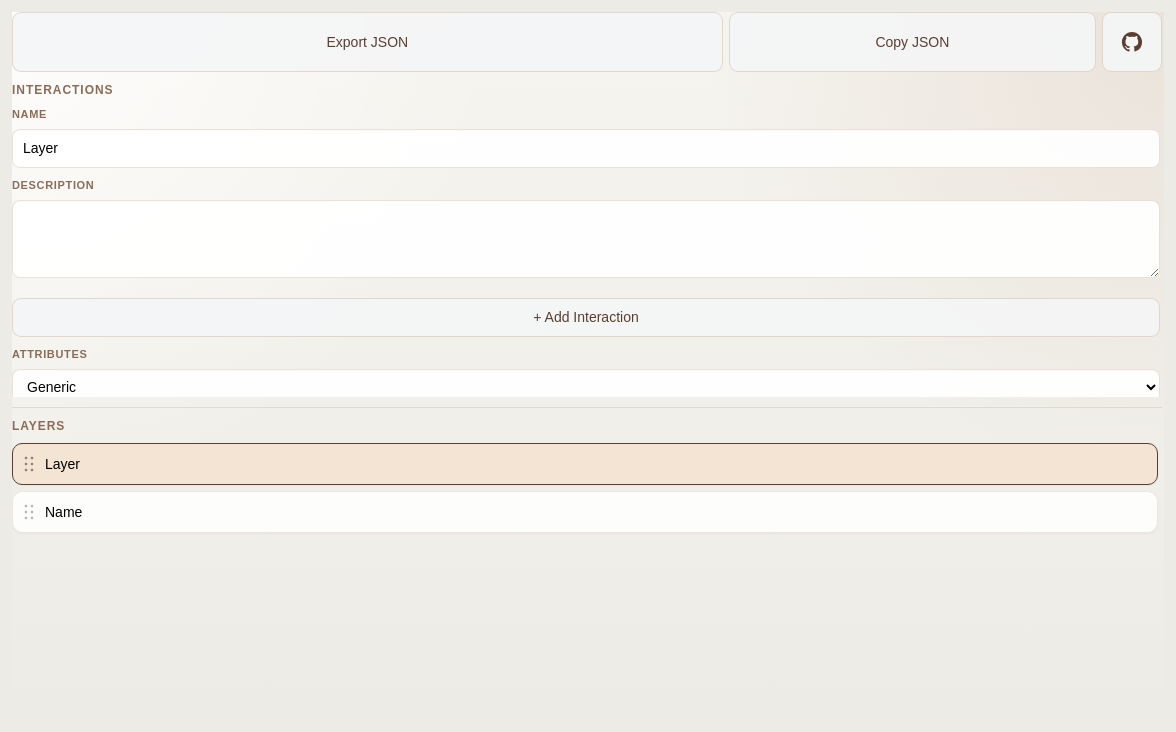
Test: BoardCanvas › keeps layer name typing as a draft until committing
The image size is (1176, 732).
Clear the field labelled "Name". click: (586, 148)
box: [12,129,1160,168]
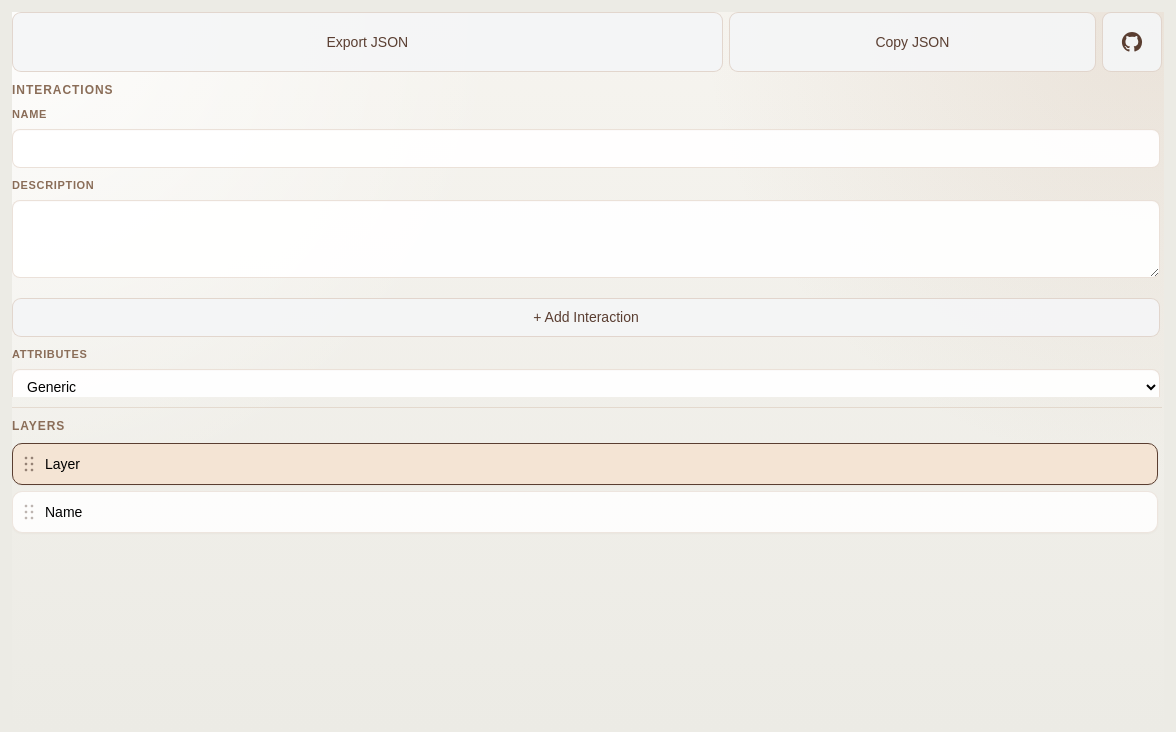
Check: the text "Layer" is shown, box [45,456,80,472]
Leave the field labelled "Name", box [12,129,1160,168]
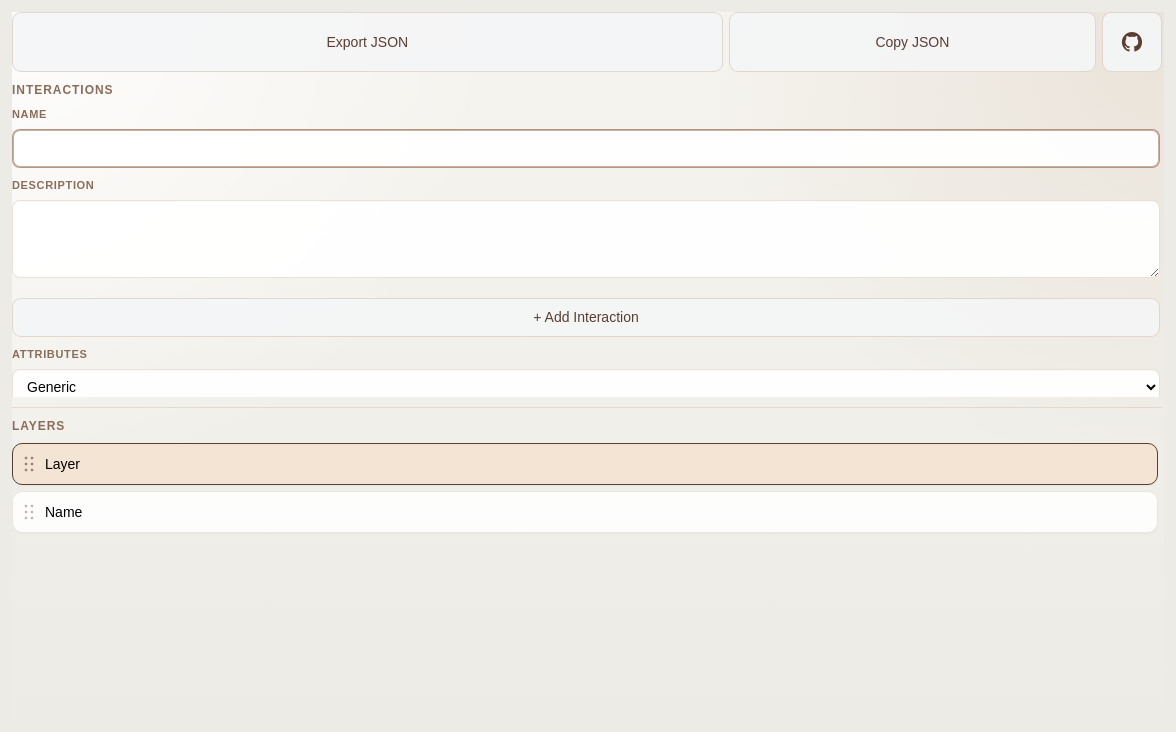
Check: the text "Layer" is shown, box [45,456,80,472]
Type "Name" into the field labelled "Name". click: (586, 148)
box: [12,129,1160,168]
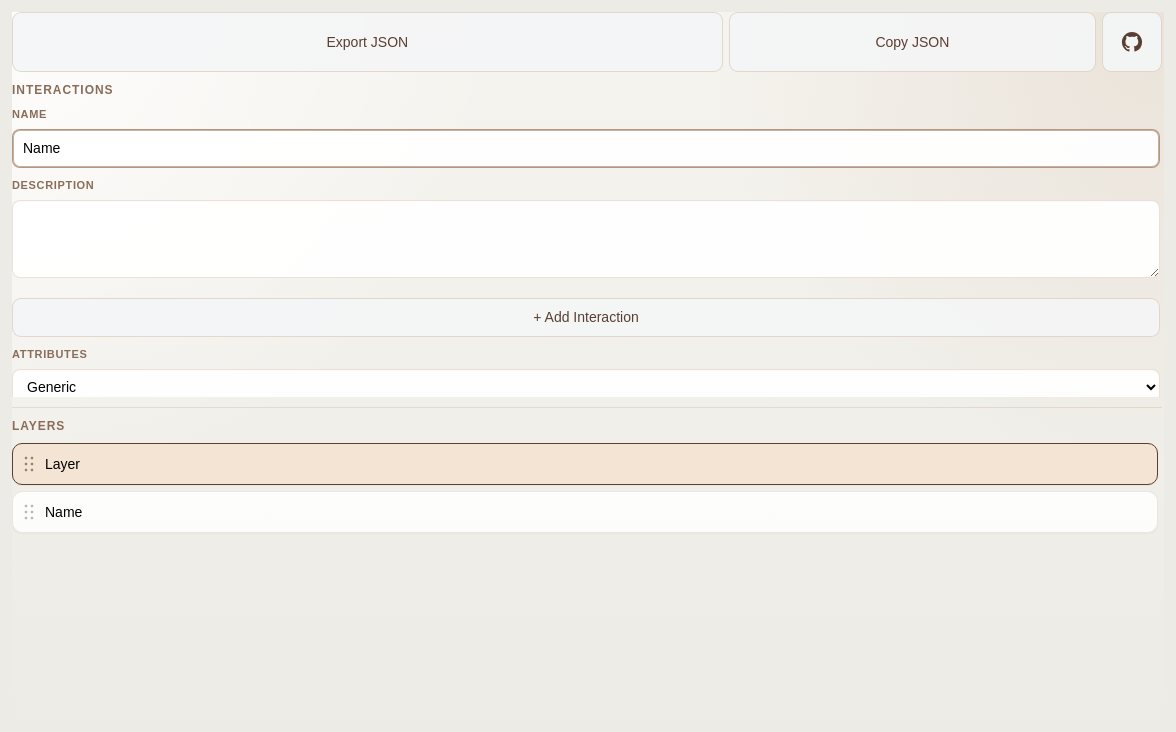
Check: the text "Layer" is shown, box [45,456,80,472]
Leave the field labelled "Name", box [12,129,1160,168]
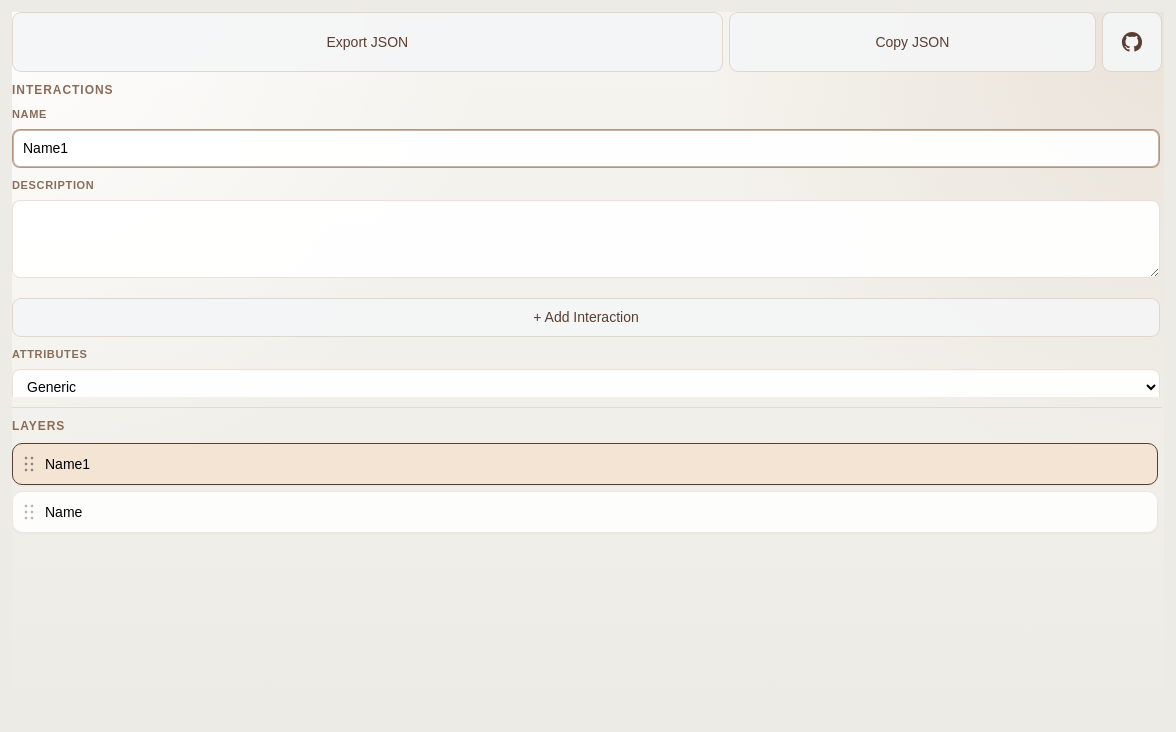
Check: the text "Name1" is shown, box [45,456,90,472]
Check: the field labelled "Name" holds "Name1", box [12,129,1160,168]
